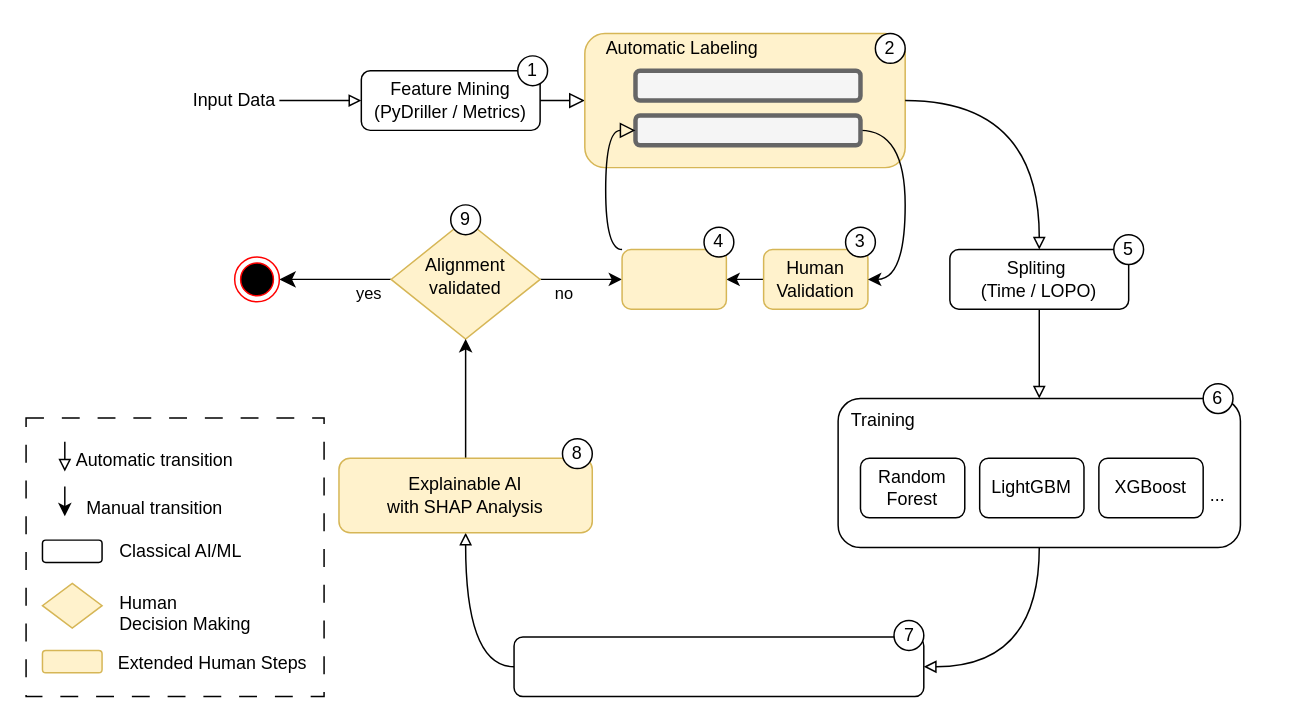
The diagram is 1289 pixels wide and 723 high, and some of its shapes have lost their labels. The centre of each missing label's shape, as x and y in pixels:
"Cost-Aware Evaluation (PR-AUC, F1, MCC, κ, ......)" belongs at point 718,666.
"LLM-as-Judge Labeling" belongs at point 747,129.
"Refinement" belongs at point 673,278.
"SATD Keyword Detection" belongs at point 747,85.
